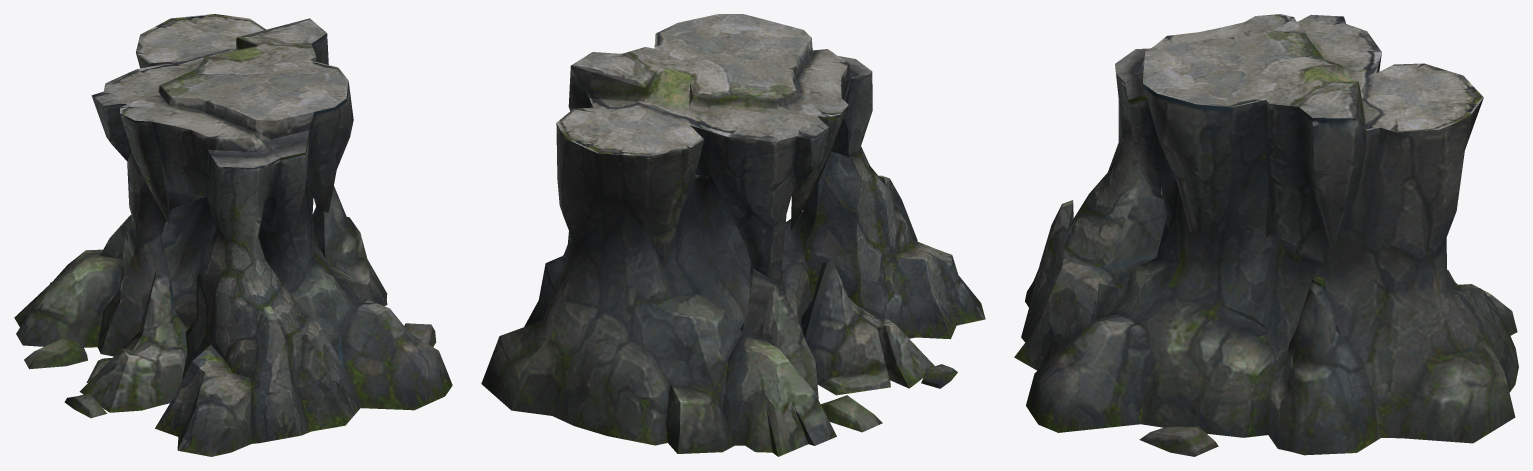
File: 4007_shitou_3.FBX
The picture shows the model from 3 angles, left to right: view 1: azimuth 30°, elevation 25°; view 2: azimuth 150°, elevation 25°; view 3: azimuth 270°, elevation 25°; orthographic projection. The views are drawn at different scales.
Parts seen in each view (by area): view 1: 4007_shitou_3; view 2: 4007_shitou_3; view 3: 4007_shitou_3.
Part boxes in pixels (box(x1,y1,x2,y2)): 4007_shitou_3: box(14, 14, 452, 456); 4007_shitou_3: box(481, 14, 985, 456); 4007_shitou_3: box(1014, 14, 1518, 456).
Bounding box in the file's own units: 836 × 625 × 918.
